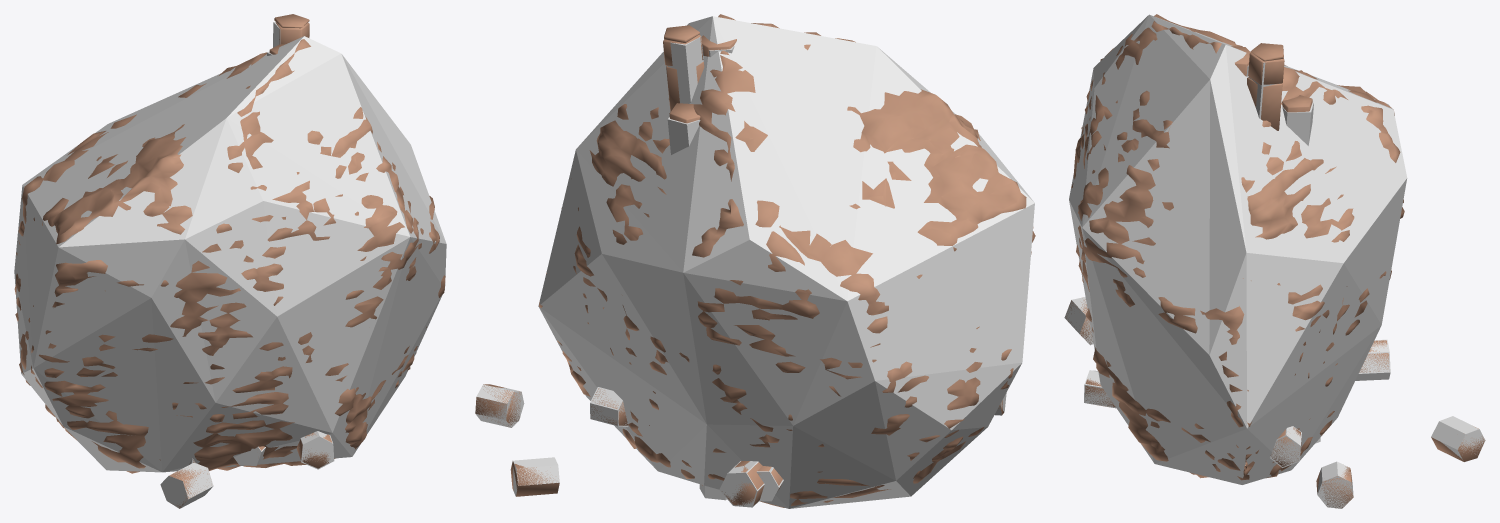
Rendered from rim_rocks.glb.
3 views of the same model, side by side, from view 1: azimuth 30°, elevation 25°; view 2: azimuth 150°, elevation 25°; view 3: azimuth 270°, elevation 25° (orthographic). The views are drawn at different scales.
Visible parts, largest first — view 1: col_rim_cliff_a, rim_cliff_a, col_rim_columns_a, col_rim_columns_c, rim_columns_c; view 2: col_rim_cliff_a, rim_cliff_a, col_rim_columns_c, rim_columns_c, col_rim_columns_a, rim_columns_a; view 3: col_rim_cliff_a, rim_cliff_a, rim_columns_c, col_rim_columns_c, col_rim_columns_a, rim_columns_a.
Boxes of the visible parts, left/top/right/bottom form: col_rim_cliff_a: left=14, top=36, right=446, bottom=472; rim_cliff_a: left=14, top=39, right=445, bottom=473; col_rim_columns_a: left=160, top=462, right=213, bottom=508; col_rim_columns_c: left=234, top=21, right=334, bottom=469; rim_columns_c: left=259, top=14, right=332, bottom=468; col_rim_cliff_a: left=538, top=16, right=1034, bottom=508; rim_cliff_a: left=539, top=14, right=1035, bottom=507; col_rim_columns_c: left=590, top=36, right=764, bottom=507; rim_columns_c: left=591, top=25, right=764, bottom=505; col_rim_columns_a: left=475, top=384, right=1006, bottom=500; rim_columns_a: left=475, top=384, right=1003, bottom=496; col_rim_cliff_a: left=1069, top=14, right=1407, bottom=484; rim_cliff_a: left=1071, top=14, right=1404, bottom=480; rim_columns_c: left=1085, top=43, right=1388, bottom=466; col_rim_columns_c: left=1084, top=49, right=1390, bottom=467; col_rim_columns_a: left=1064, top=297, right=1484, bottom=508; rim_columns_a: left=1065, top=299, right=1485, bottom=508.
Size of the model in its own units: 12.63 by 11.25 by 10.19.
2 materials, 1 textured.
